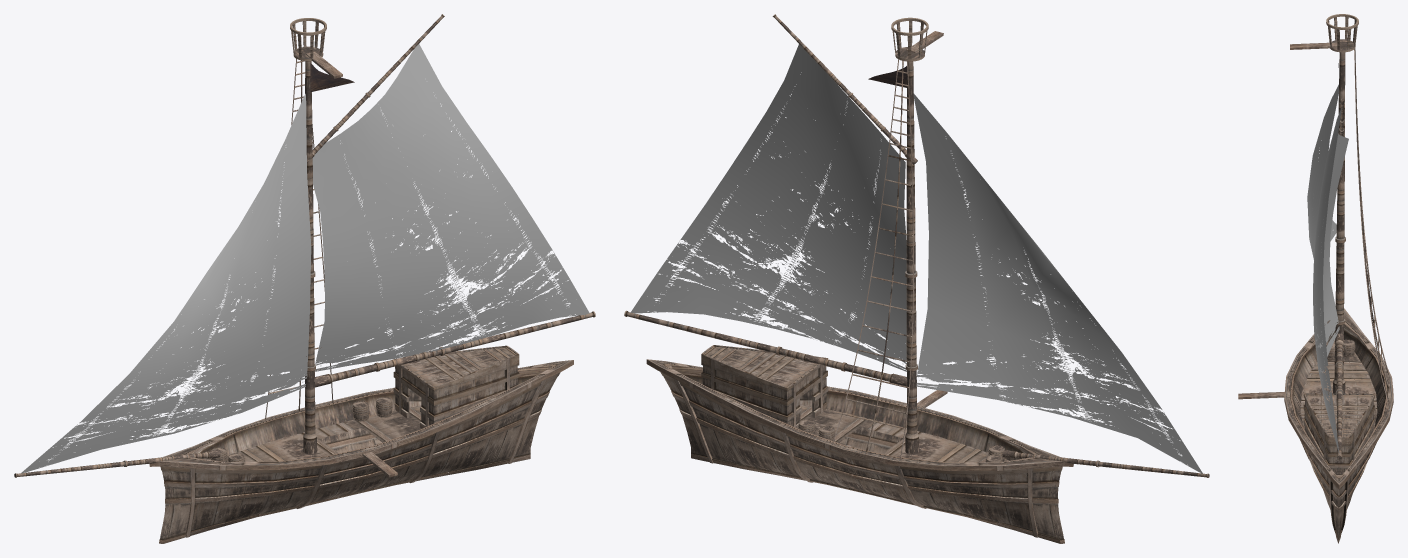
The model's file is escuna.glb.
3 views of the same model, side by side, from view 1: azimuth 30°, elevation 25°; view 2: azimuth 150°, elevation 25°; view 3: azimuth 270°, elevation 25° (orthographic). The views are drawn at different scales.
Parts seen in each view (by area): view 1: Plane.004_8, Plane.005_12, Plane_10, Plane.003_11, Cylinder_5, Cylinder.001_6, Cylinder.002_0, Cylinder.003_7, Plane.007_14; view 2: Plane.004_8, Plane.005_12, Plane_10, Plane.003_11, Cylinder_5, Plane.007_14, Cylinder.001_6, Cylinder.002_0, Cylinder.003_7; view 3: Plane_10, Plane.004_8, Plane.003_11, Cylinder_5, Plane.005_12, Plane.007_14, Cylinder.001_6, Plane.009_15, Plane.010_16.
Boxes of the visible parts, x1,y1,x2,y2 form: Plane.004_8: [312, 44, 589, 371]; Plane.005_12: [21, 93, 311, 473]; Plane_10: [149, 360, 573, 543]; Plane.003_11: [393, 345, 519, 428]; Cylinder_5: [290, 18, 326, 454]; Cylinder.001_6: [314, 311, 595, 387]; Cylinder.002_0: [14, 450, 220, 477]; Cylinder.003_7: [307, 14, 444, 163]; Plane.007_14: [265, 58, 333, 419]; Plane.004_8: [630, 44, 906, 371]; Plane.005_12: [913, 93, 1202, 473]; Plane_10: [646, 359, 1073, 543]; Plane.003_11: [701, 345, 828, 428]; Cylinder_5: [891, 17, 928, 453]; Plane.007_14: [832, 59, 913, 460]; Cylinder.001_6: [624, 310, 907, 386]; Cylinder.002_0: [1002, 450, 1209, 477]; Cylinder.003_7: [772, 14, 917, 164]; Plane_10: [1284, 308, 1393, 543]; Plane.004_8: [1313, 108, 1348, 453]; Plane.003_11: [1303, 393, 1374, 474]; Cylinder_5: [1326, 14, 1358, 393]; Plane.005_12: [1307, 84, 1338, 259]; Plane.007_14: [1354, 48, 1389, 402]; Cylinder.001_6: [1335, 333, 1343, 460]; Plane.009_15: [1238, 392, 1284, 399]; Plane.010_16: [1290, 42, 1340, 49].
Size of what is drawn, in the model's own units: 7.77 by 6.23 by 2.05.
Materials: 3 (3 with a texture image).
